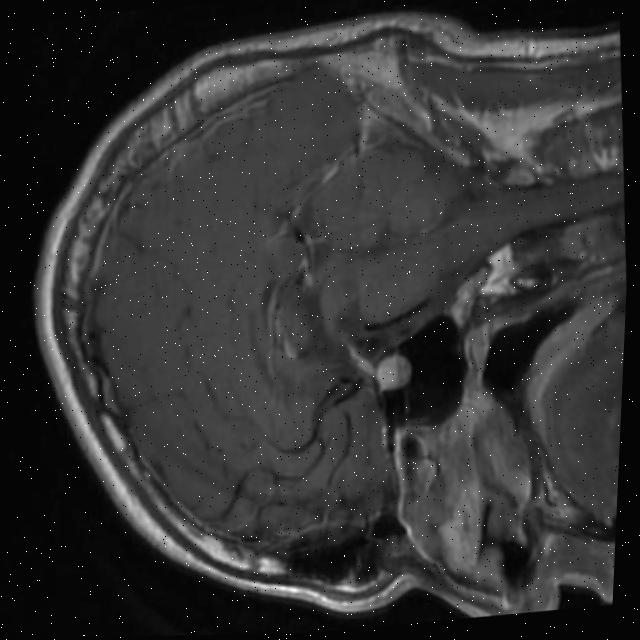Pituitary: (370, 350, 414, 390)
